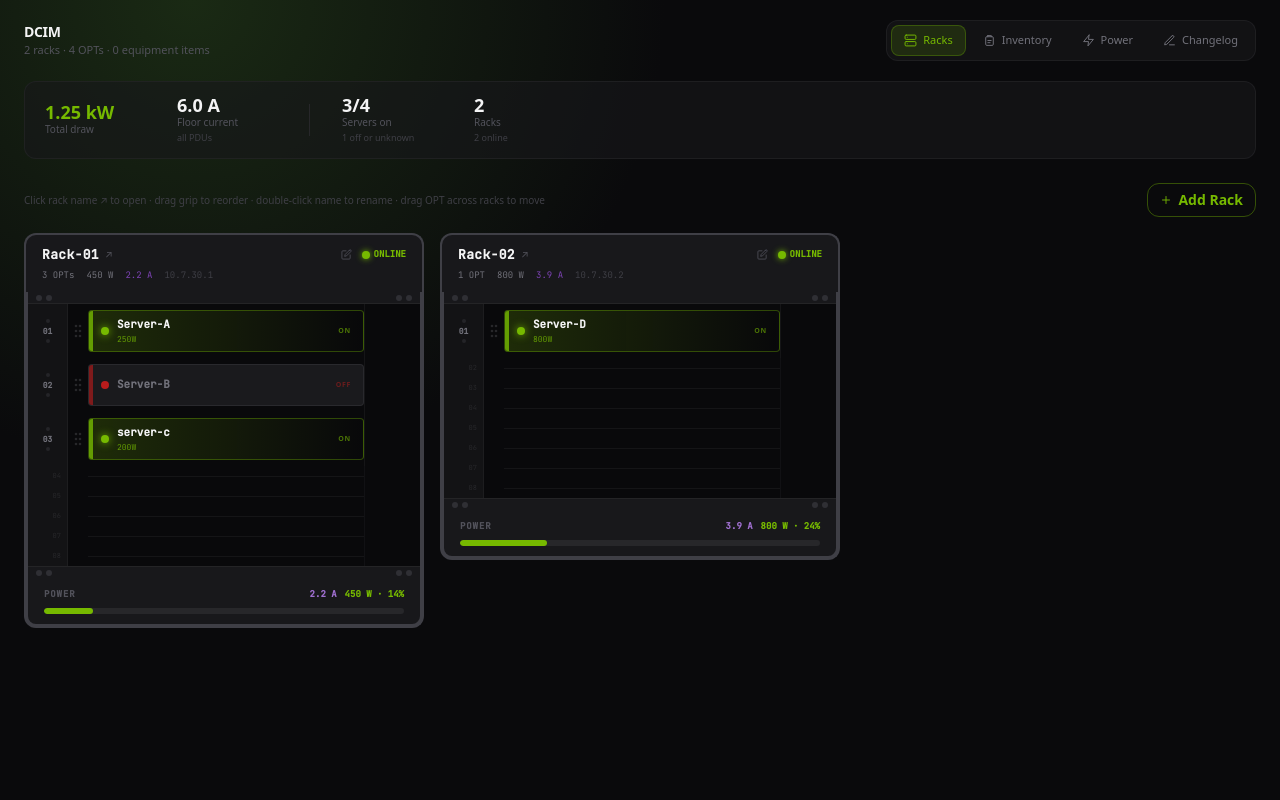
Test: DcimView — Power sub-view › shows total draw summary tile
The image size is (1280, 800).
Click the button "Power".
click(1107, 40)  # box 1069,25 -> 1146,56
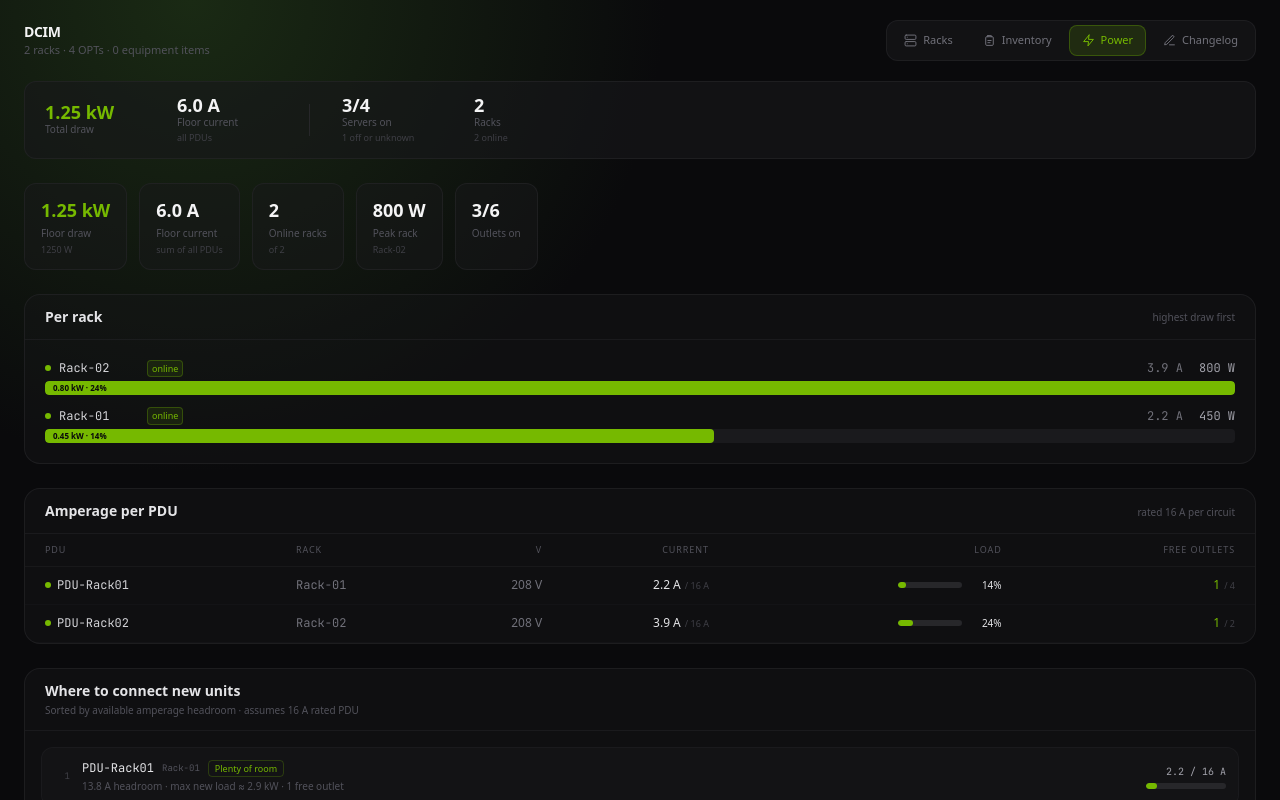
Check: the text "1250 W" is shown, box 41,243 -> 72,256
